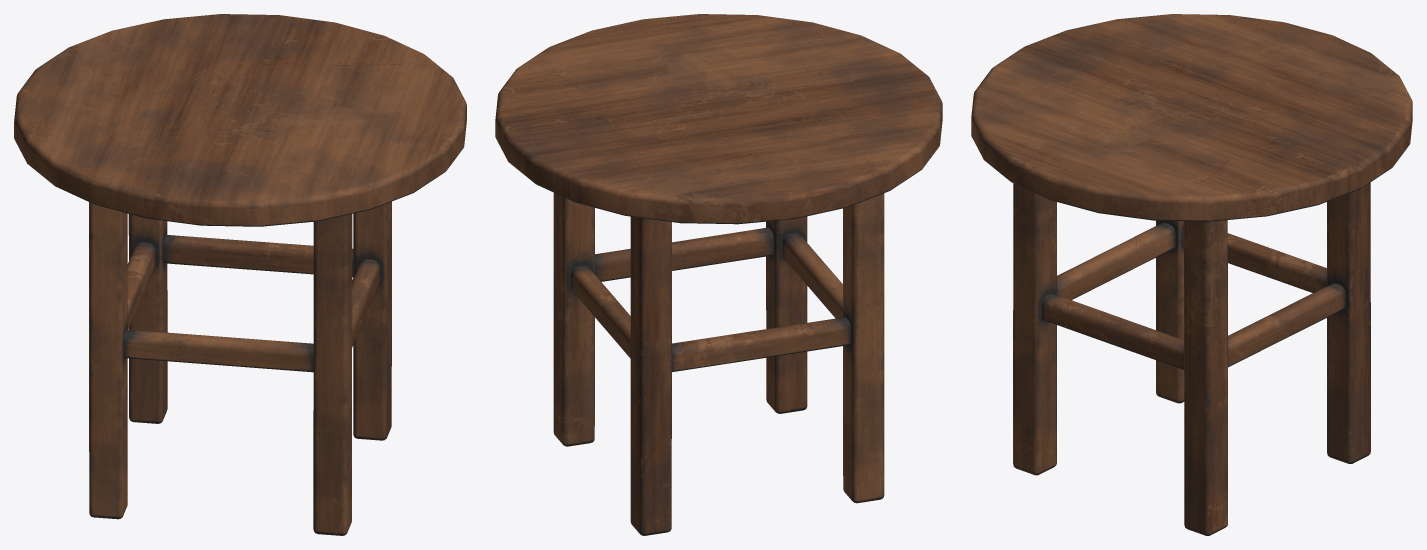
Rendered from stool.glb.
3 renders of one model, left to right at view 1: azimuth 30°, elevation 25°; view 2: azimuth 150°, elevation 25°; view 3: azimuth 270°, elevation 25°, orthographic. The views are drawn at different scales.
Visible parts, largest first — view 1: Stool; view 2: Stool; view 3: Stool.
Part boxes in pixels (box(x1,y1,x2,y2)): Stool: box(14, 14, 466, 535); Stool: box(495, 14, 942, 535); Stool: box(971, 14, 1412, 535).
Bounding box in the file's own units: 0.459 × 0.4092 × 0.459.
Materials: 1 (1 with a texture image).
